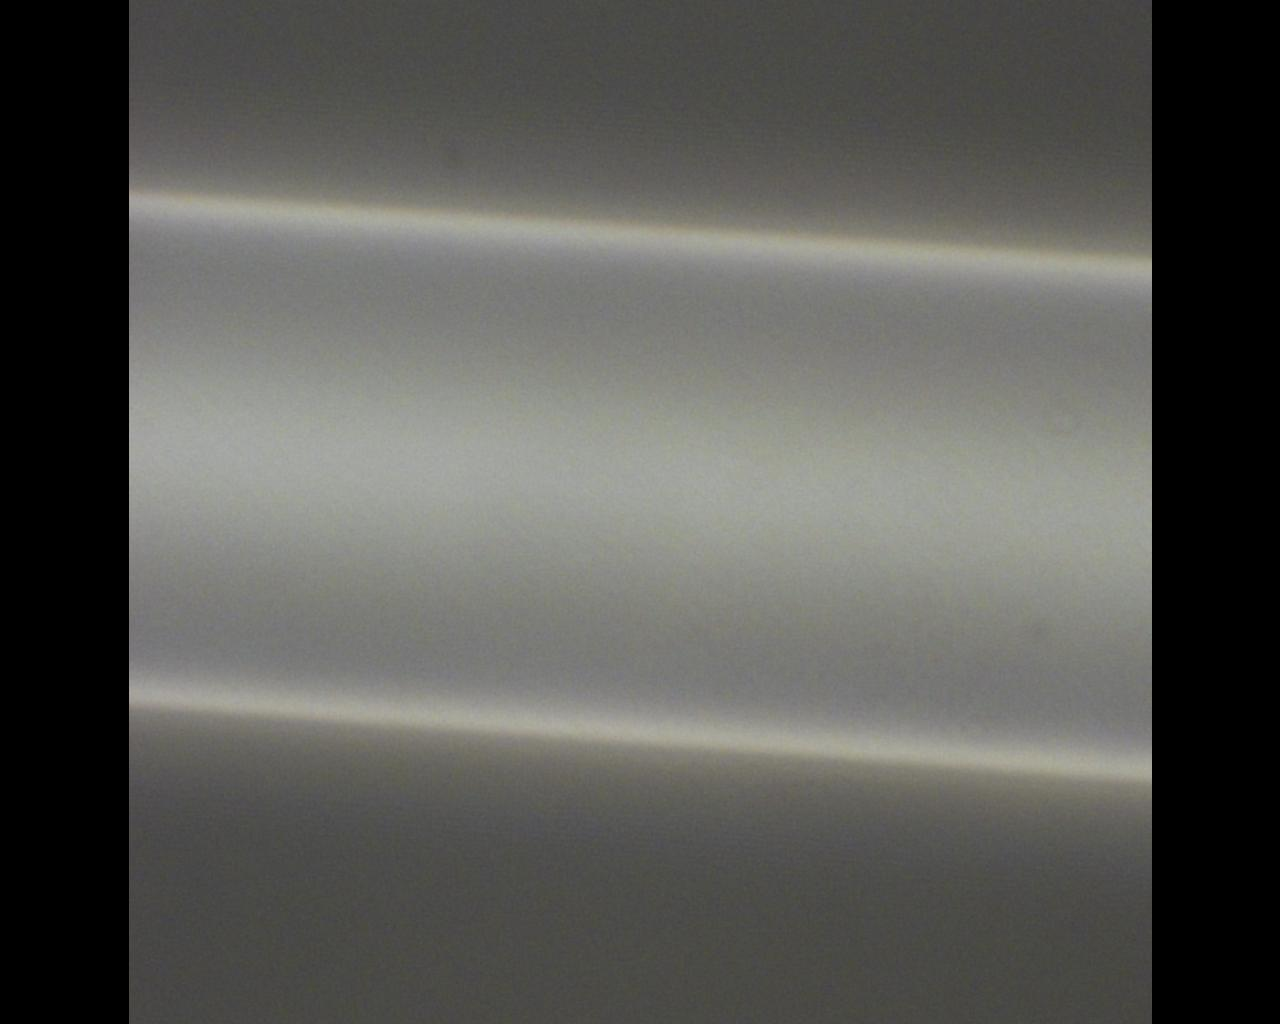fiber: (127, 177, 1151, 419)
